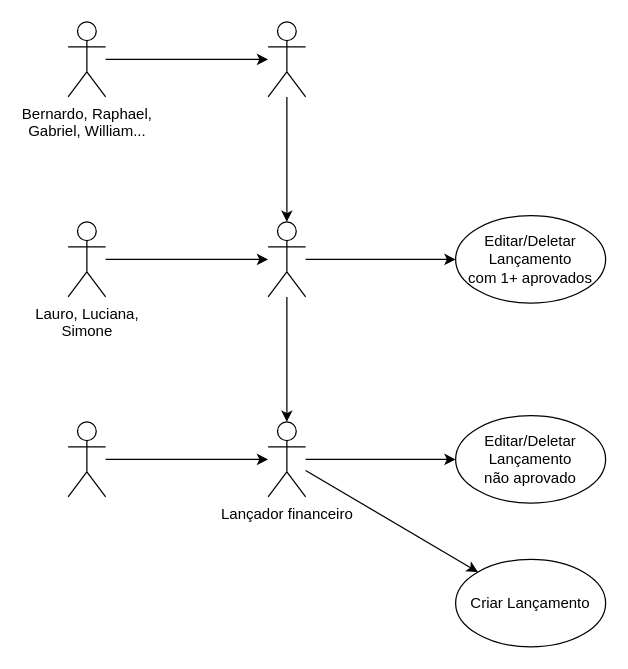
Some shapes in this 628 by 669 pixel diagram are drawn without their labels. The shapes that lost their labels are listed below. From the top down, each one's centre as x and y in pixels, then its label:
At pixel 286 59: "Admin master".
At pixel 286 259: "Aprovador financeiro (Admin)".
At pixel 86 459: "Letícia, Louise, Marcia".
